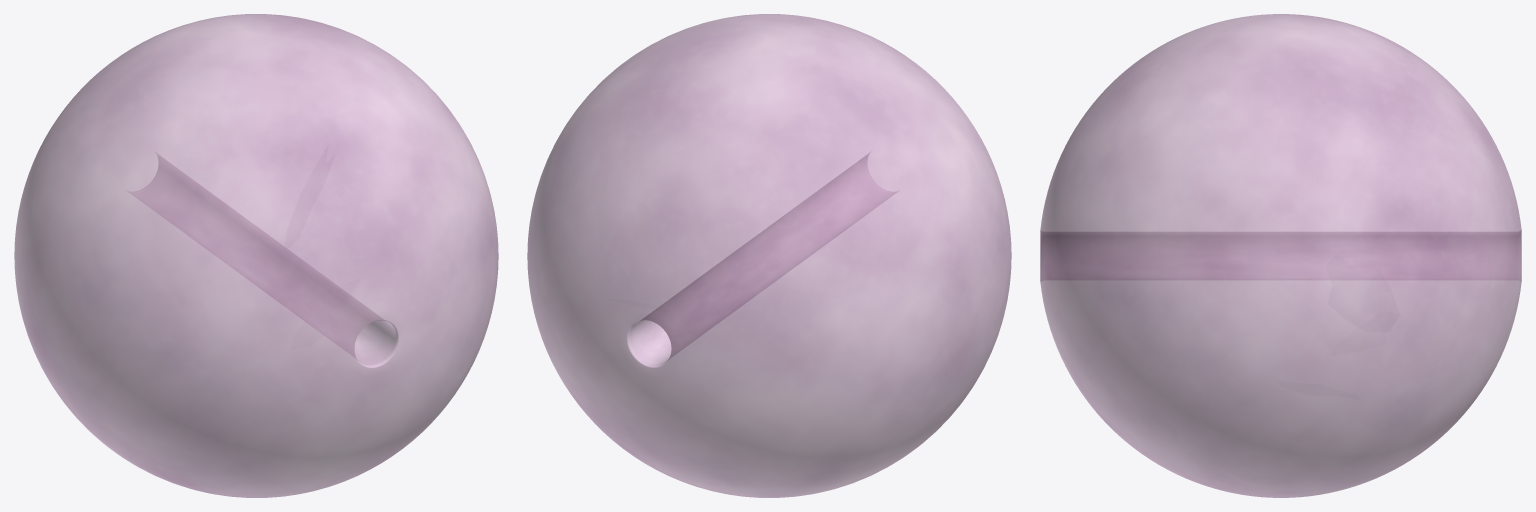
Rendered from kunzite-10mm.glb.
The picture shows the model from 3 angles, left to right: view 1: azimuth 30°, elevation 25°; view 2: azimuth 150°, elevation 25°; view 3: azimuth 270°, elevation 25°; orthographic projection.
Parts seen in each view (by area): view 1: kunzite.001; view 2: kunzite.001; view 3: kunzite.001.
Part boxes in pixels (x1=…): kunzite.001: x1=14, y1=14, x2=498, y2=497; kunzite.001: x1=527, y1=14, x2=1011, y2=497; kunzite.001: x1=1040, y1=14, x2=1521, y2=497.
Size of the model in its own units: 0.01 by 0.01 by 0.00994.
2 materials, 1 textured.
